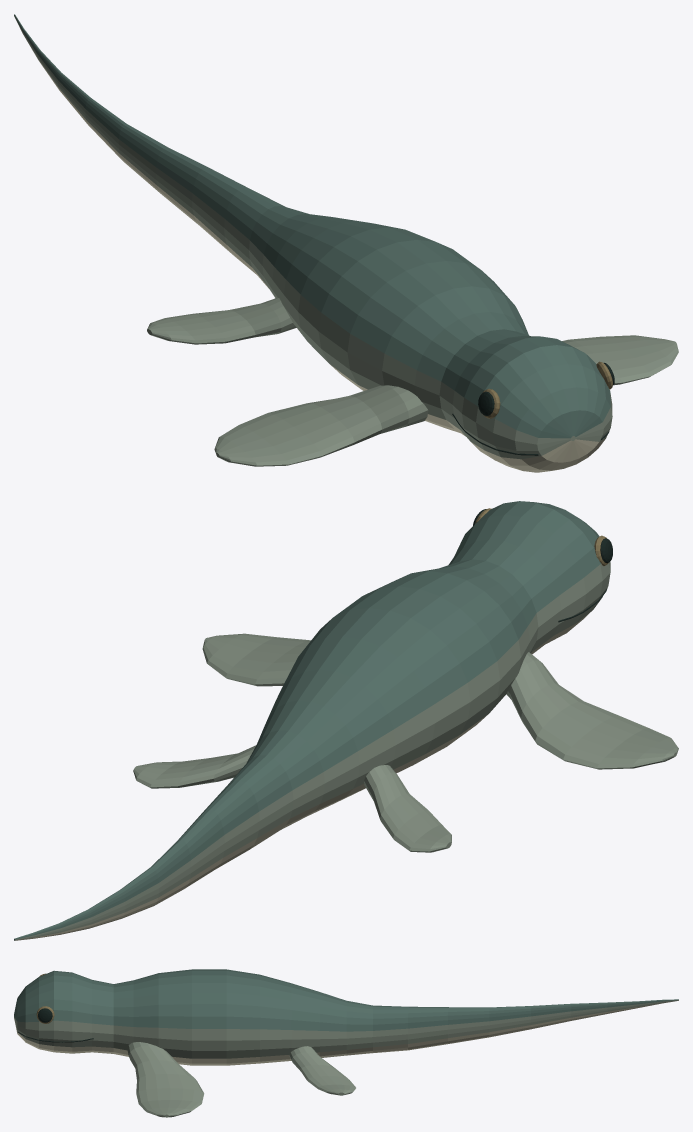
The picture shows the model from 3 angles, top to bottom: view 1: azimuth 30°, elevation 25°; view 2: azimuth 150°, elevation 25°; view 3: azimuth 270°, elevation 25°; orthographic projection. The views are drawn at different scales.
Visible parts, largest first — view 1: axial-body-short-skull-trunk-tapered-tail, forepaddle-left, hindpaddle-left, forepaddle-right, eyes-nostrils-closed-mouth; view 2: axial-body-short-skull-trunk-tapered-tail, forepaddle-left, forepaddle-right, hindpaddle-left, hindpaddle-right, eyes-nostrils-closed-mouth; view 3: axial-body-short-skull-trunk-tapered-tail, forepaddle-right, hindpaddle-right, eyes-nostrils-closed-mouth.
Part boxes in pixels (<box>): axial-body-short-skull-trunk-tapered-tail: <box>14,14,612,472</box>; forepaddle-left: <box>214,385,428,466</box>; hindpaddle-left: <box>147,297,296,344</box>; forepaddle-right: <box>562,335,678,385</box>; eyes-nostrils-closed-mouth: <box>452,361,614,455</box>; axial-body-short-skull-trunk-tapered-tail: <box>14,501,610,940</box>; forepaddle-left: <box>506,652,678,769</box>; forepaddle-right: <box>202,633,310,686</box>; hindpaddle-left: <box>364,765,451,852</box>; hindpaddle-right: <box>133,745,255,788</box>; eyes-nostrils-closed-mouth: <box>473,508,612,622</box>; axial-body-short-skull-trunk-tapered-tail: <box>14,969,678,1065</box>; forepaddle-right: <box>127,1042,204,1117</box>; hindpaddle-right: <box>289,1046,355,1095</box>; eyes-nostrils-closed-mouth: <box>18,973,93,1042</box>.
Size of the model in its own units: 0.192 by 0.056 by 0.4.
